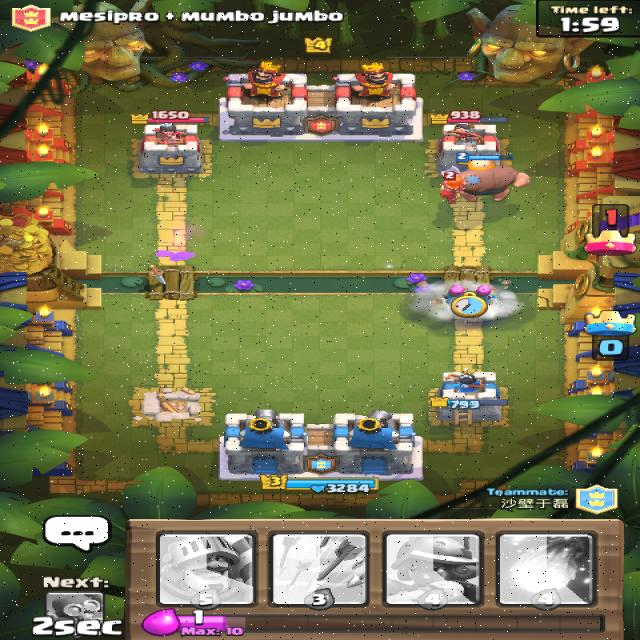Enemy-Valkyrie: (437, 165, 467, 205)
Player-Archer: (469, 284, 500, 305), (439, 283, 469, 304)
Player-Giant: (452, 151, 531, 201)
